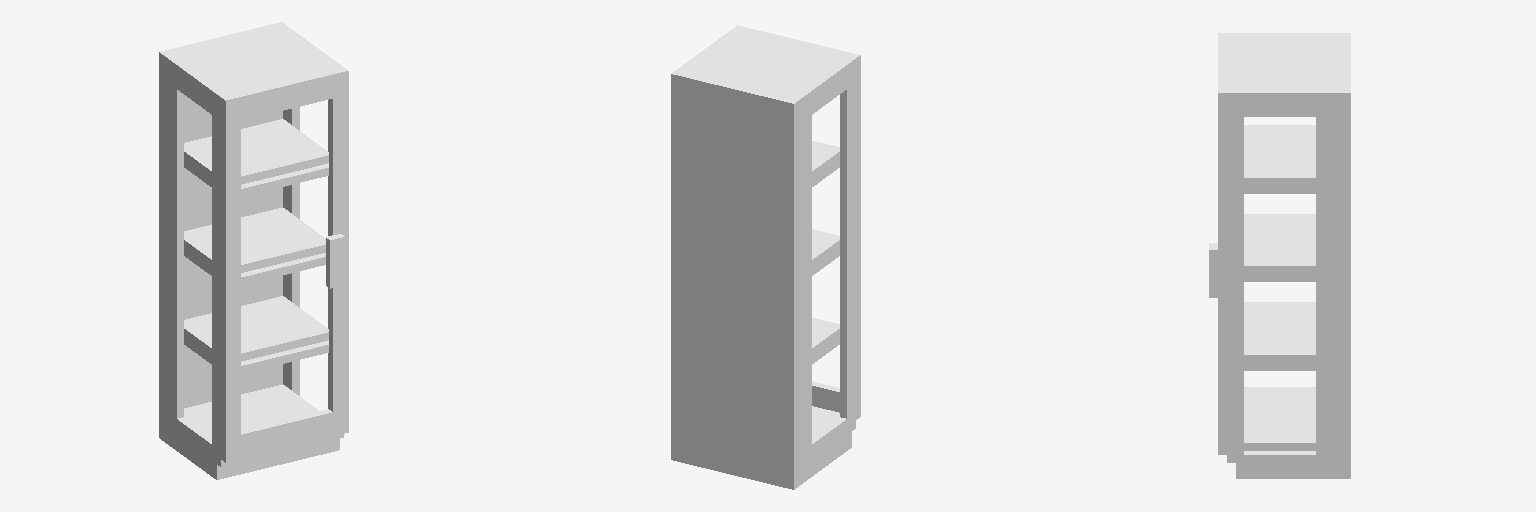
The model's file is fullMilkShelfAnimAttempt4.obj.
The picture shows the model from 3 angles: view 1: azimuth 30°, elevation 25°; view 2: azimuth 150°, elevation 25°; view 3: azimuth 270°, elevation 25°; orthographic projection.
Parts seen in each view (by area): view 1: object 1; view 2: object 1; view 3: object 1.
Part boxes in pixels (x1,y1,x2,y2): object 1: (159, 22, 348, 479); object 1: (671, 25, 860, 489); object 1: (1209, 33, 1350, 478).
Size of the model in its own units: 1.6 by 4.8 by 1.6.